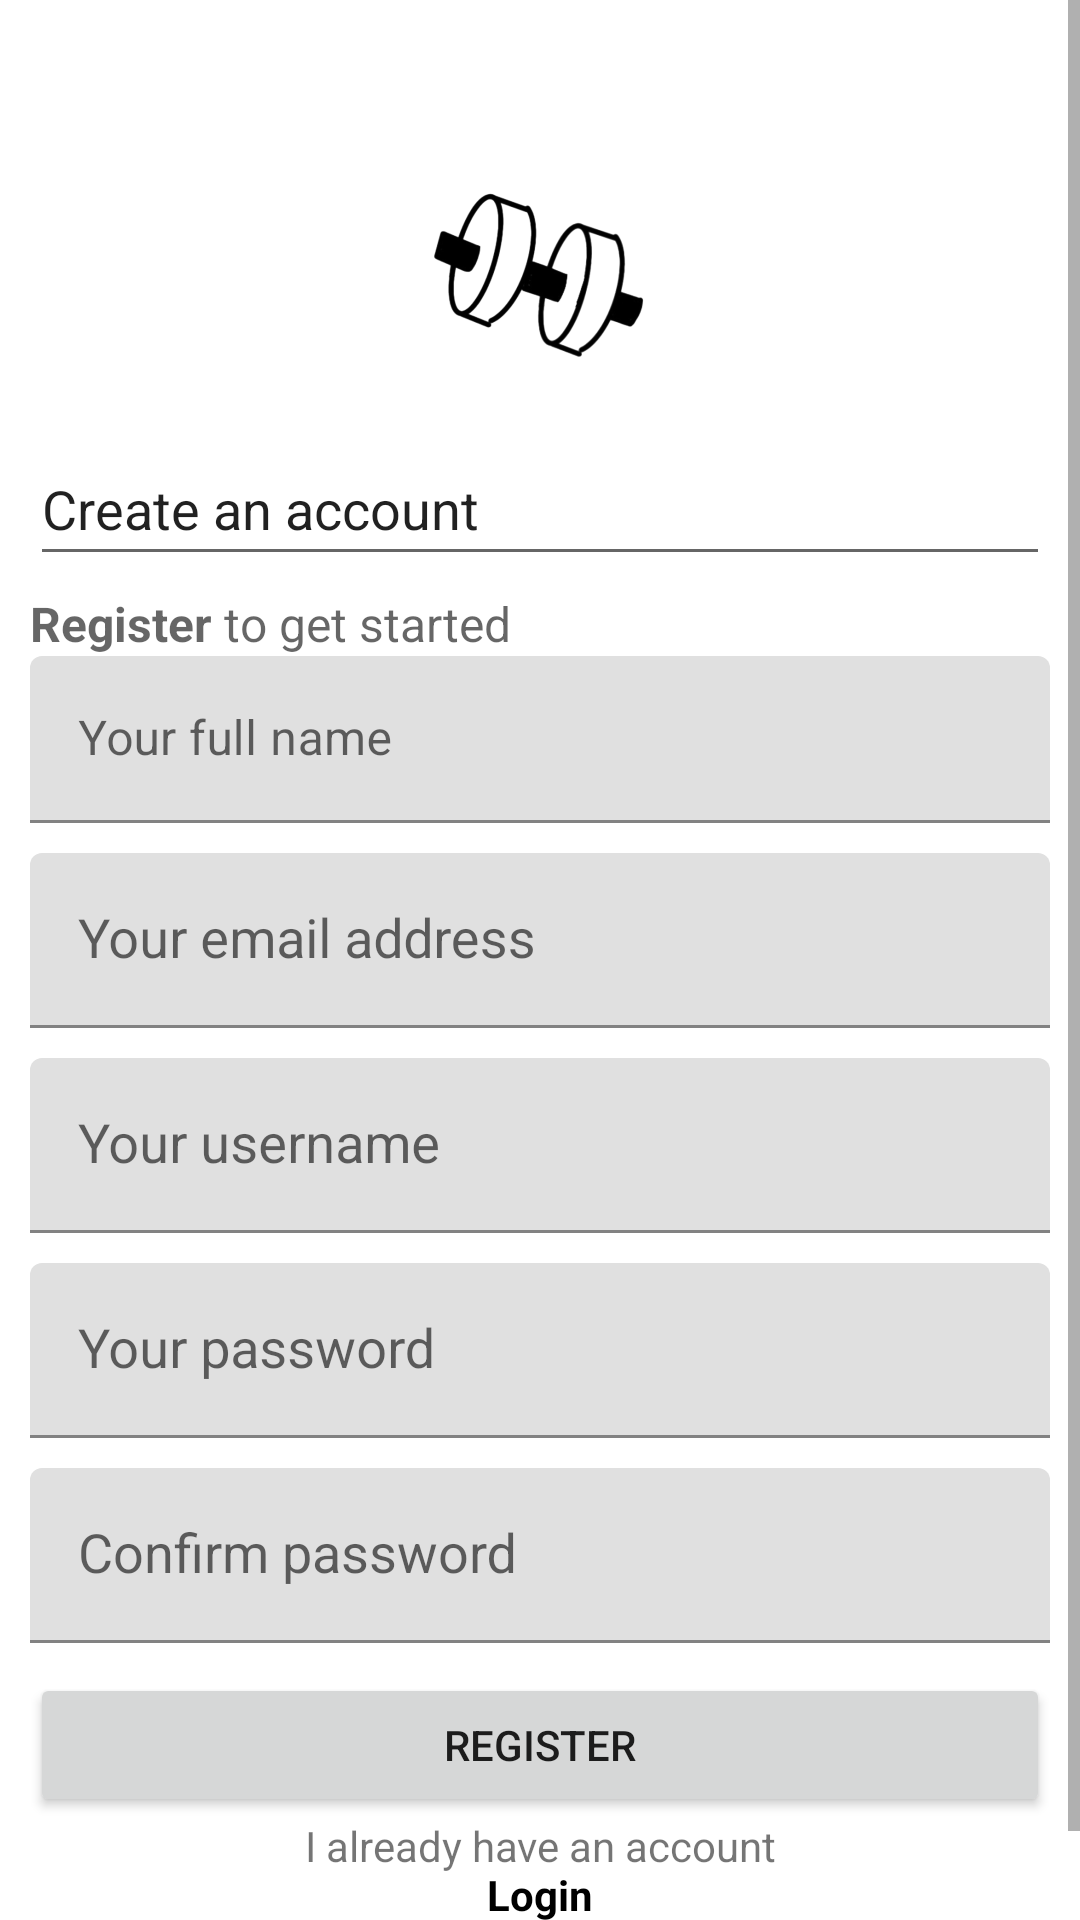

Screen size 1080w x 1920h. Icon name, then its center in pixels as (x,y):
App Icon: (538,275)
